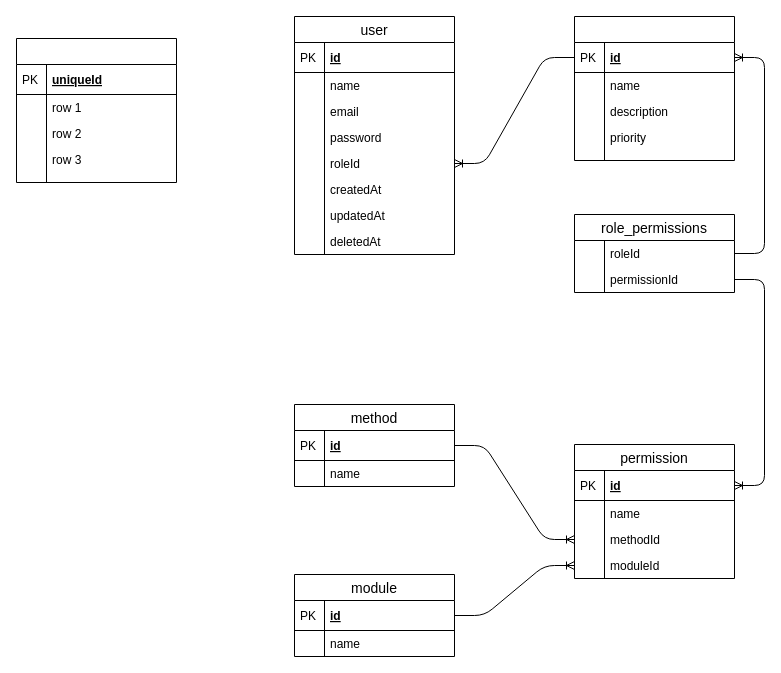
Some shapes in this 781 by 673 pixel diagram are drawn without their labels. Here are the shapes that lost their labels. From the top down, the box of each, then its label:
(574, 16, 734, 160): role
(16, 38, 176, 182): idea
